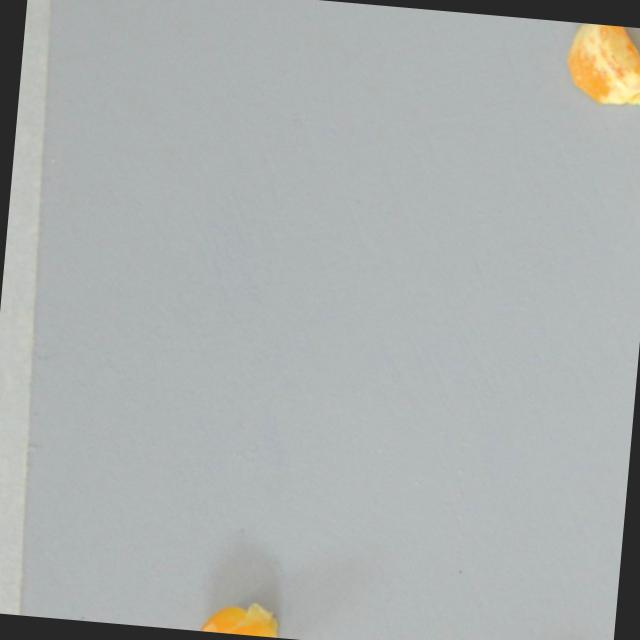no_desgerminado: (559, 20, 640, 119)
pelicula: (195, 594, 281, 638)
